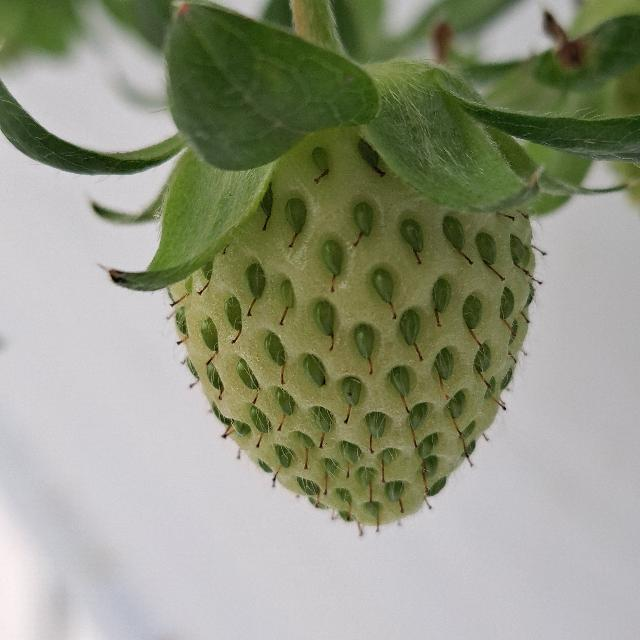Health_25: (166, 126, 536, 526)
